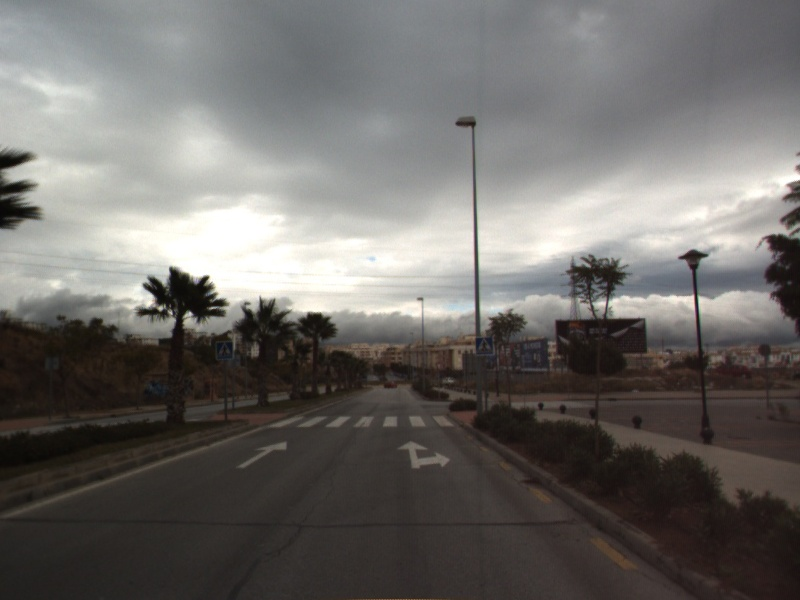STRAIGHT: (234, 439, 289, 470)
STRAIGHT_RIGHT: (395, 438, 452, 470)
